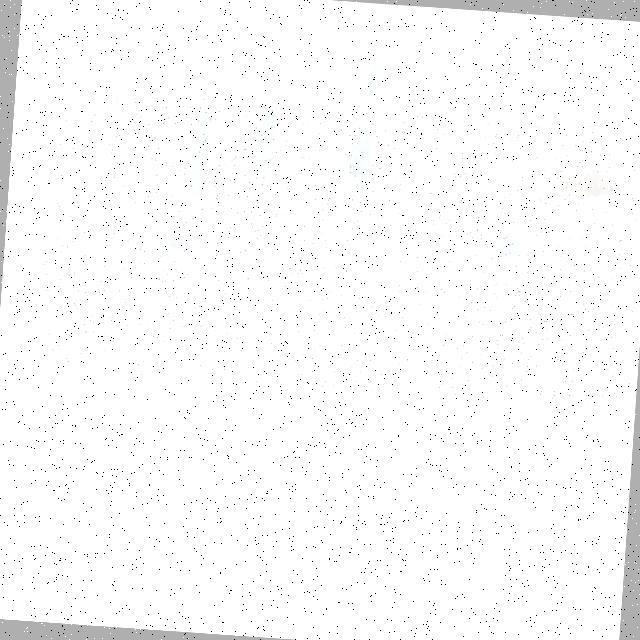Dent: (30, 87, 640, 409)
